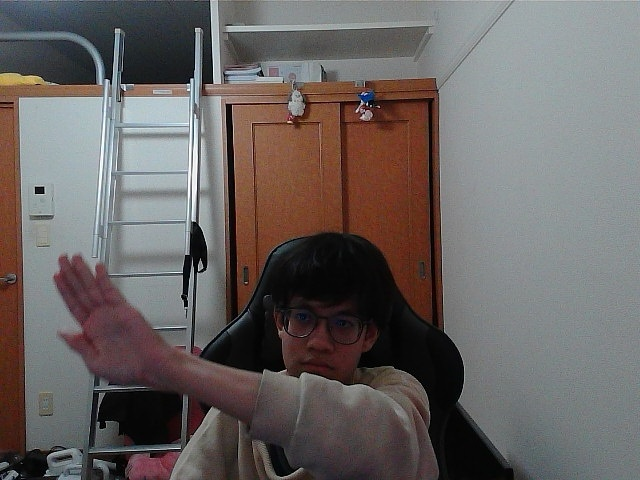open_palm: (58, 260, 143, 374)
